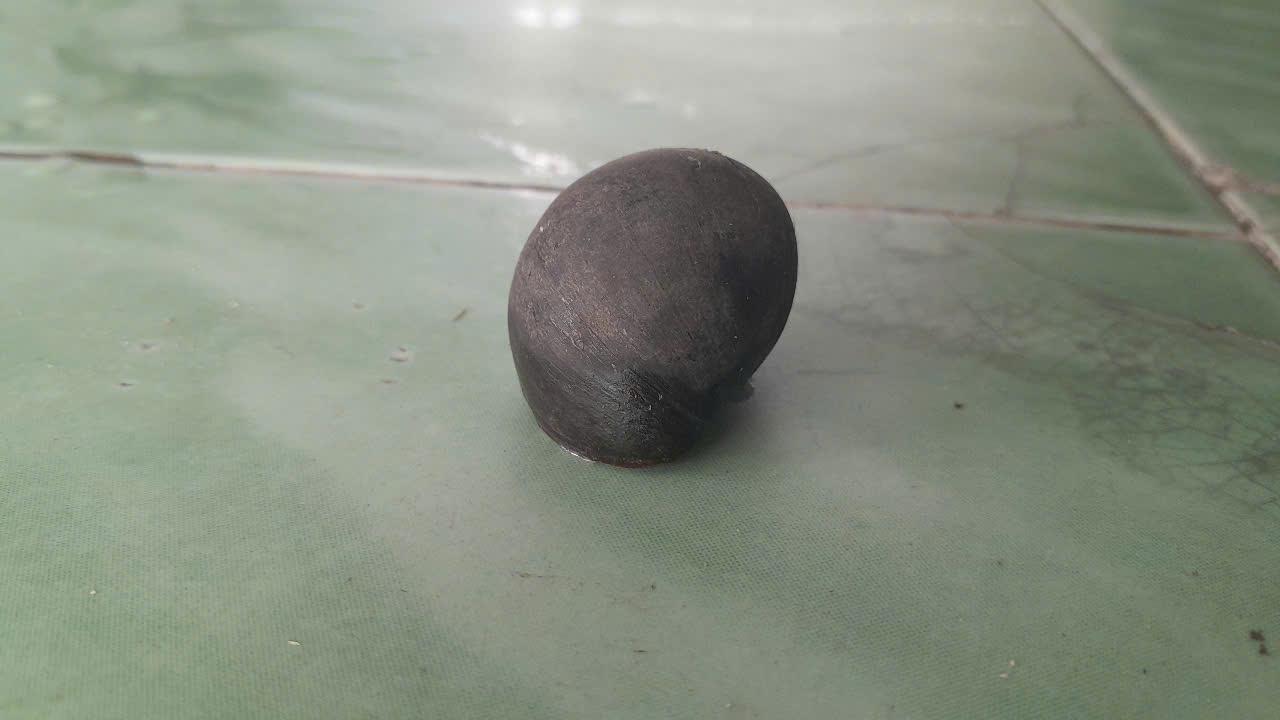oc_buou_vang: (478, 124, 826, 501)
